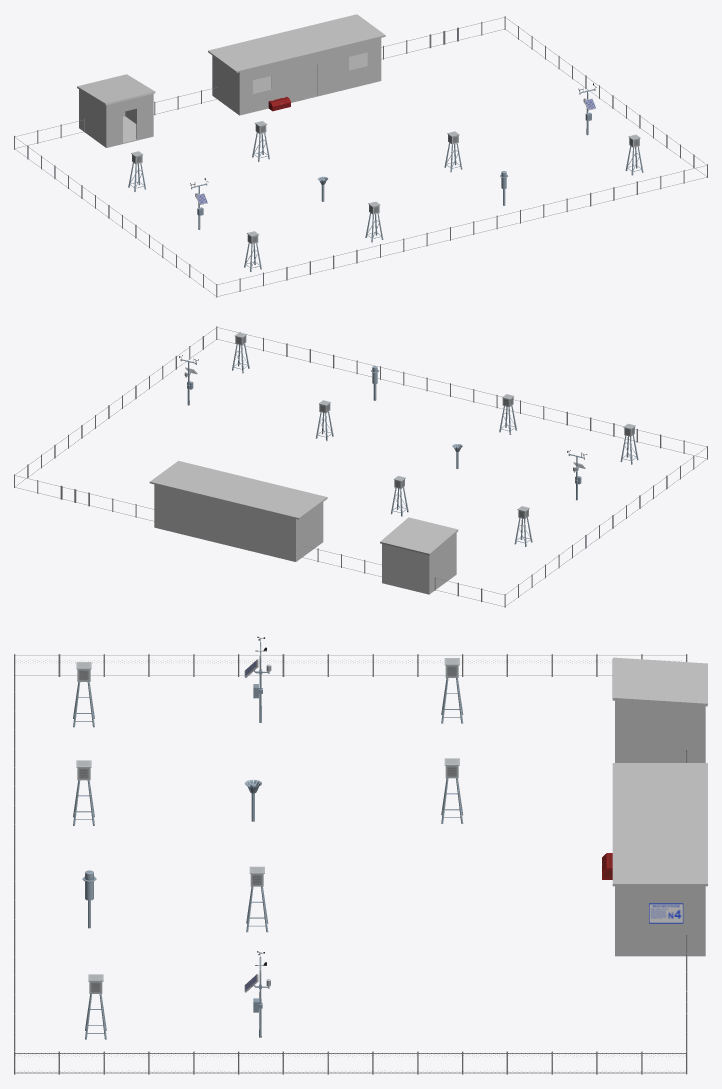
The model's file is Meteoestacion04.fbx.
The picture shows the model from 3 angles, top to bottom: view 1: azimuth 30°, elevation 25°; view 2: azimuth 150°, elevation 25°; view 3: azimuth 270°, elevation 25°; orthographic projection. The views are drawn at different scales.
Parts seen in each view (by area): view 1: changeHaus01.002, changeHaus04.001, fence.068, changeHaus01.004, changeHaus04.002, door; view 2: changeHaus01.002, changeHaus04.001, fence.068, changeHaus01.004, changeHaus04.002; view 3: changeHaus04.001, fence.068, changeHaus01.002, changeHaus01.004, changeHaus04.002, tabl01.004.
Boxes of the visible parts, left/top/right/bottom form: changeHaus01.002: left=212, top=38, right=381, bottom=114; changeHaus04.001: left=208, top=14, right=385, bottom=72; fence.068: left=14, top=16, right=707, bottom=297; changeHaus01.004: left=79, top=89, right=153, bottom=147; changeHaus04.002: left=77, top=74, right=155, bottom=105; door: left=303, top=65, right=317, bottom=98; changeHaus01.002: left=154, top=484, right=323, bottom=561; changeHaus04.001: left=149, top=461, right=327, bottom=519; fence.068: left=14, top=326, right=707, bottom=607; changeHaus01.004: left=382, top=533, right=456, bottom=593; changeHaus04.002: left=380, top=517, right=458, bottom=555; changeHaus04.001: left=612, top=763, right=707, bottom=886; fence.068: left=14, top=654, right=687, bottom=1074; changeHaus01.002: left=615, top=886, right=705, bottom=954; changeHaus01.004: left=615, top=700, right=705, bottom=762; changeHaus04.002: left=612, top=657, right=707, bottom=706; tabl01.004: left=649, top=903, right=683, bottom=923.
Bounding box in the file's own units: 4154 × 393 × 3061.
